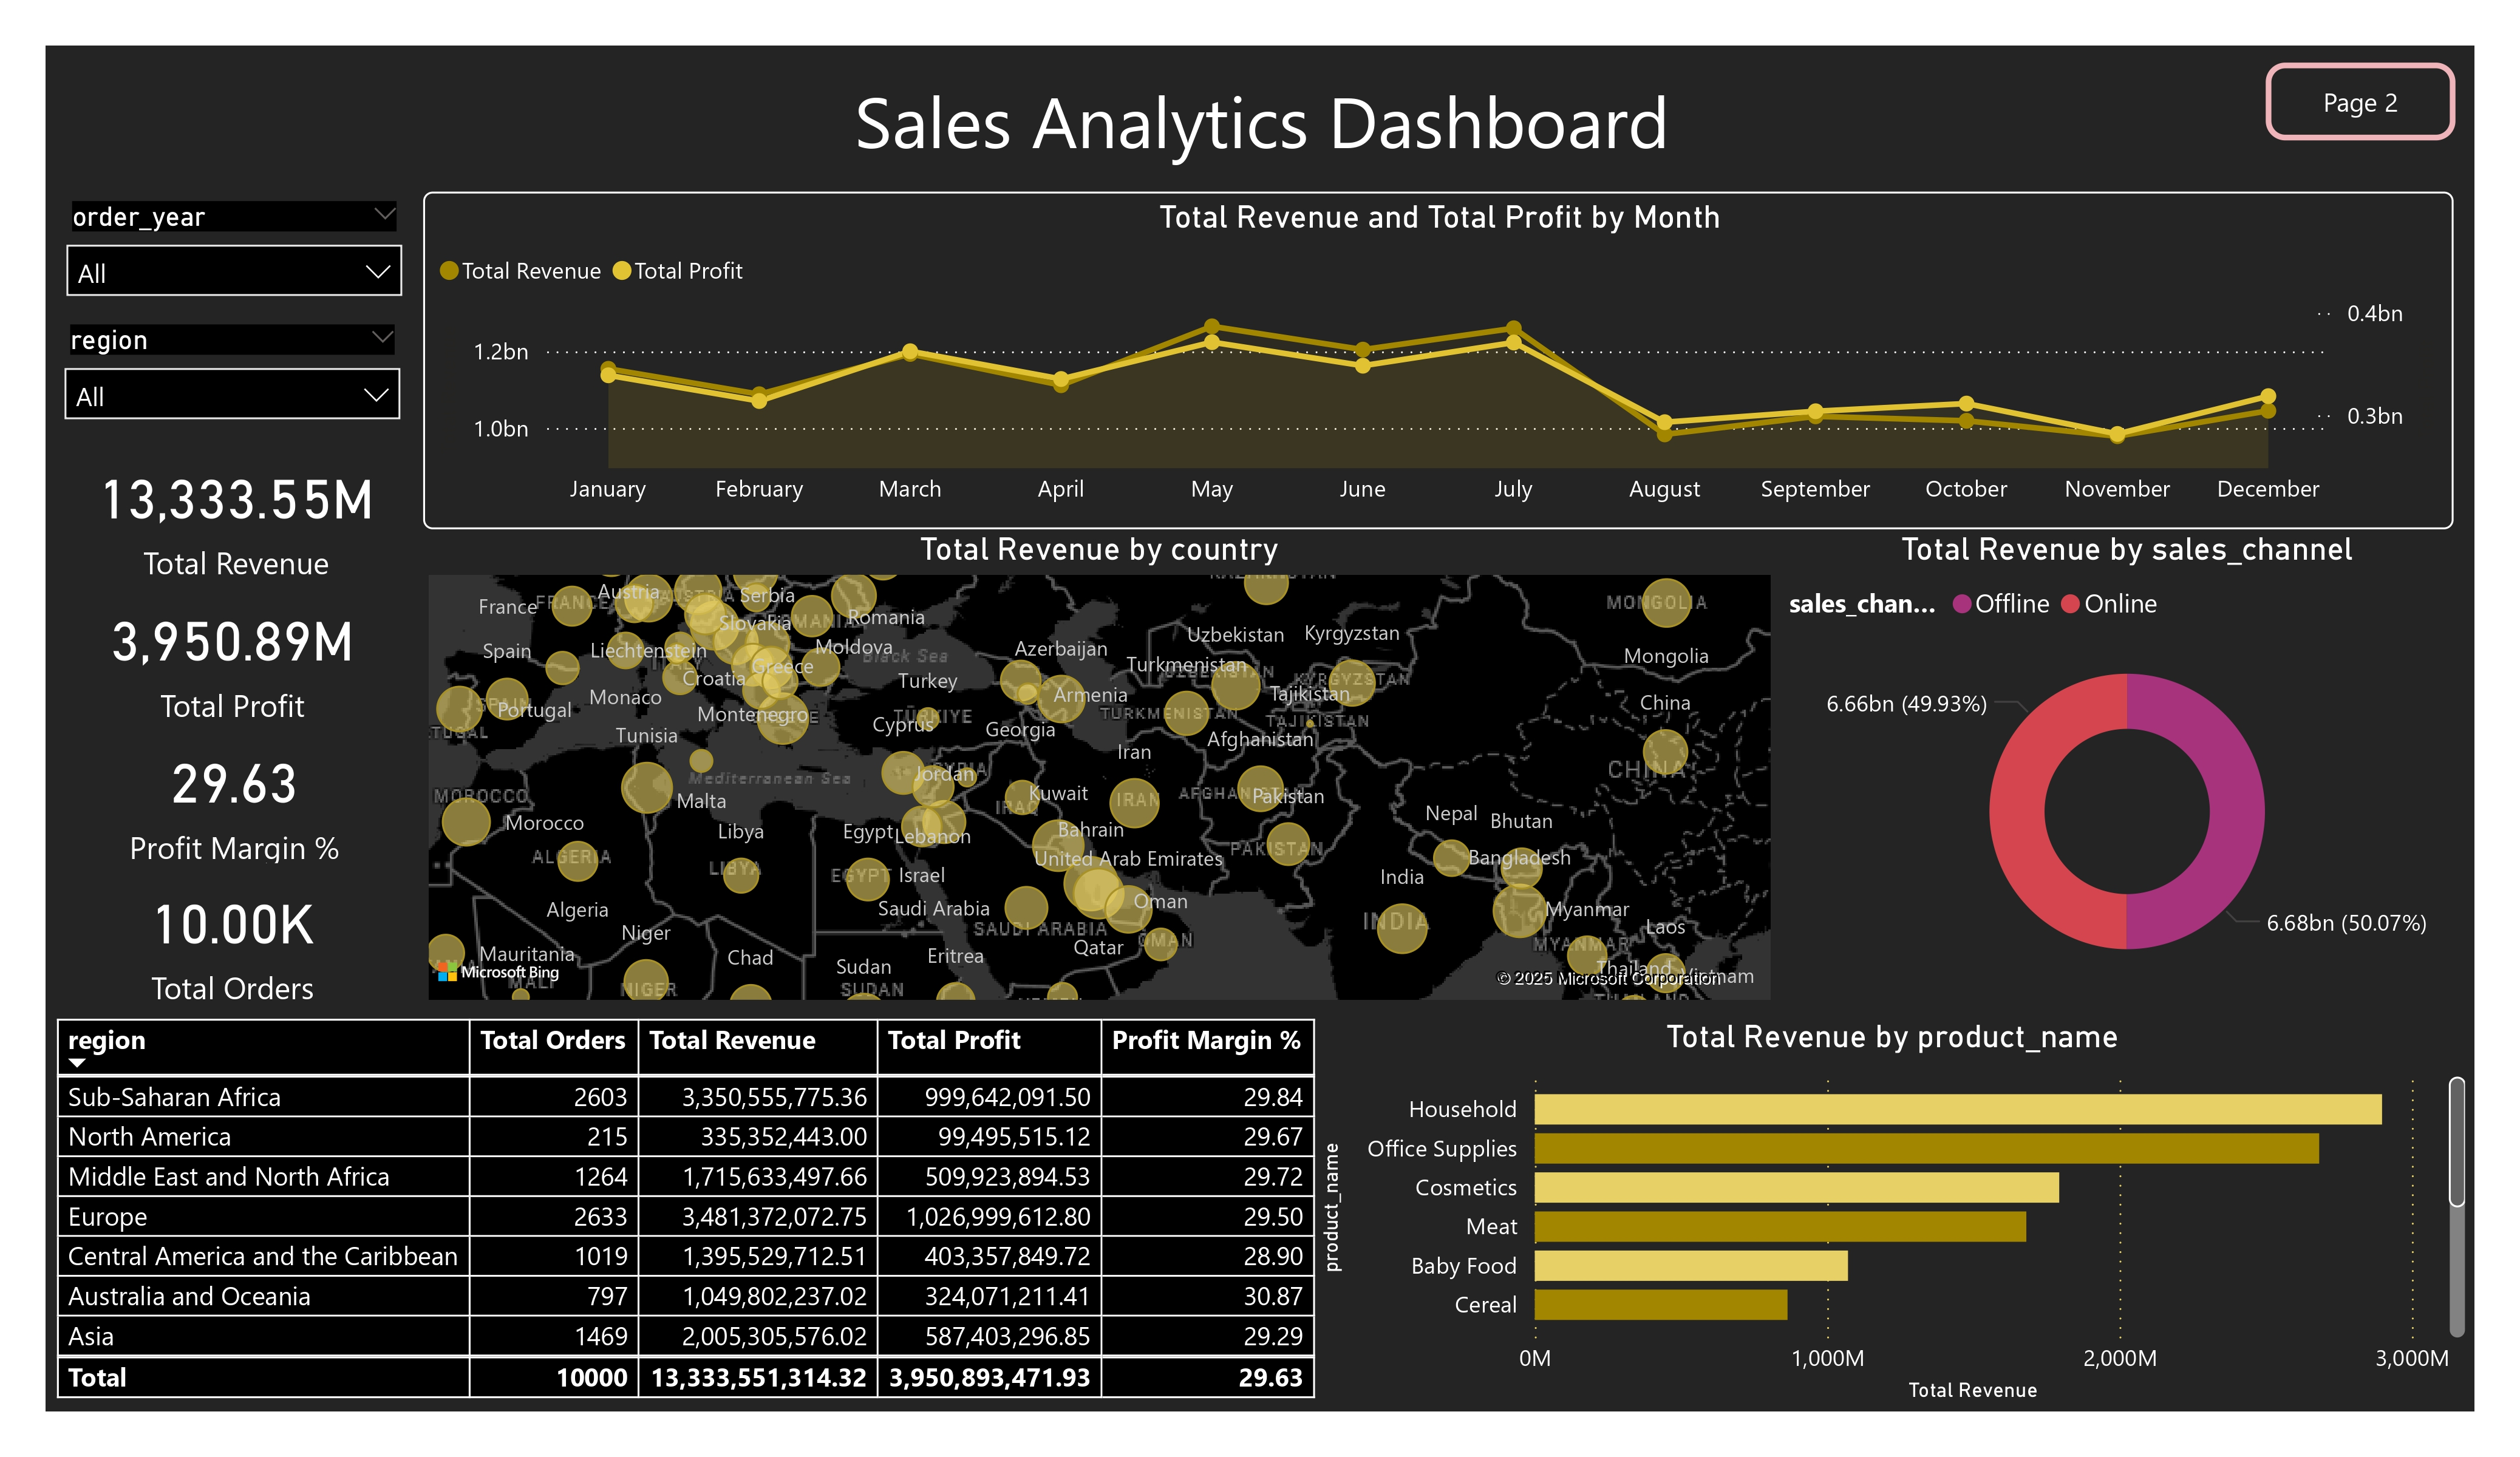

This screenshot's page, from the dashboard's own definition file:
{"tool":"powerbi","page":{"name":"Page 1","canvas":[1280,720],"ordinal":0},"visuals":[{"type":"card","fields":{"Values":["Measures (2).Total Revenue"]},"box":[2.4,209.9,196.6,76],"z":0},{"type":"card","fields":{"Values":["Measures (2).Total Profit"]},"box":[0,285.9,196.6,73.6],"z":1000},{"type":"card","fields":{"Values":["Measures (2).Profit Margin %"]},"box":[1.2,359.5,196.6,76],"z":2000},{"type":"card","fields":{"Values":["Measures (2).Total Orders"]},"box":[0,435.5,196.6,72.4],"z":3000},{"type":"lineChart","fields":{"Category":["public vw_sales_summary.order_date.Variation.Date Hierarchy.Year","public vw_sales_summary.order_date.Variation.Date Hierarchy.Quarter","public vw_sales_summary.order_date.Variation.Date Hierarchy.Month","public vw_sales_summary.order_date.Variation.Date Hierarchy.Day"],"Y":["Measures (2).Total Revenue"],"Y2":["Measures (2).Total Profit"]},"box":[199.1,77.2,1070.1,177.3],"z":4000},{"type":"map","fields":{"Category":["public vw_sales_summary.country"],"Size":["Measures (2).Total Revenue"]},"box":[196.6,254.6,717.8,253.4],"z":5000},{"type":"clusteredBarChart","fields":{"Category":["public vw_sales_summary.product_name"],"Y":["Measures (2).Total Revenue"]},"box":[667.2,511.5,612.9,208.7],"z":6000},{"type":"donutChart","fields":{"Category":["public vw_sales_summary.sales_channel"],"Y":["Measures (2).Total Revenue"]},"box":[914.5,254.6,365.6,248.5],"z":7000},{"type":"tableEx","fields":{"Values":["public vw_sales_summary.region","Measures (2).Total Orders","Measures (2).Total Revenue","Measures (2).Total Profit","Measures (2).Profit Margin %"]},"box":[0,507.9,675.6,212.3],"z":8000},{"type":"slicer","title":"Order","fields":{"Values":["public vw_sales_summary.order_year"]},"box":[1.2,77.2,196.6,65.1],"z":9000},{"type":"slicer","fields":{"Values":["public vw_sales_summary.region"]},"box":[0,142.4,196.6,67.6],"z":10000},{"type":"textbox","box":[2.2,8.9,1277.8,67.8],"z":11000},{"type":"actionButton","box":[1170,9.4,99.5,40.3],"z":11001}]}

Visuals, with their boxes in screenshot pixels (x1, y1, x2, y2):
card - Measures (2).Total Revenue: region(50, 444, 423, 588)
card - Measures (2).Total Profit: region(46, 588, 418, 727)
card - Measures (2).Profit Margin %: region(48, 727, 421, 872)
card - Measures (2).Total Orders: region(46, 872, 418, 1009)
lineChart - public vw_sales_summary.order_date.Variation.Date Hierarchy.Year x public vw_sales_summary.order_date.Variation.Date Hierarchy.Quarter: region(423, 192, 2454, 528)
map - public vw_sales_summary.country x Measures (2).Total Revenue: region(418, 529, 1780, 1009)
clusteredBarChart - public vw_sales_summary.product_name x Measures (2).Total Revenue: region(1312, 1016, 2474, 1411)
donutChart - public vw_sales_summary.sales_channel x Measures (2).Total Revenue: region(1781, 529, 2474, 1000)
tableEx - public vw_sales_summary.region x Measures (2).Total Orders: region(46, 1009, 1327, 1411)
"Order" slicer: region(48, 192, 421, 316)
slicer - public vw_sales_summary.region: region(46, 316, 418, 444)
textbox: region(50, 63, 2474, 191)
actionButton: region(2266, 63, 2454, 140)
